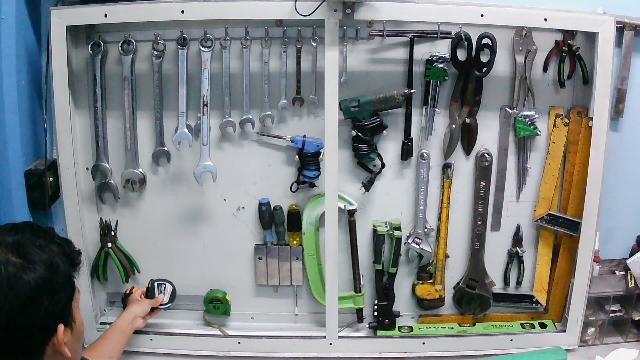meteran: (139, 275, 179, 318)
